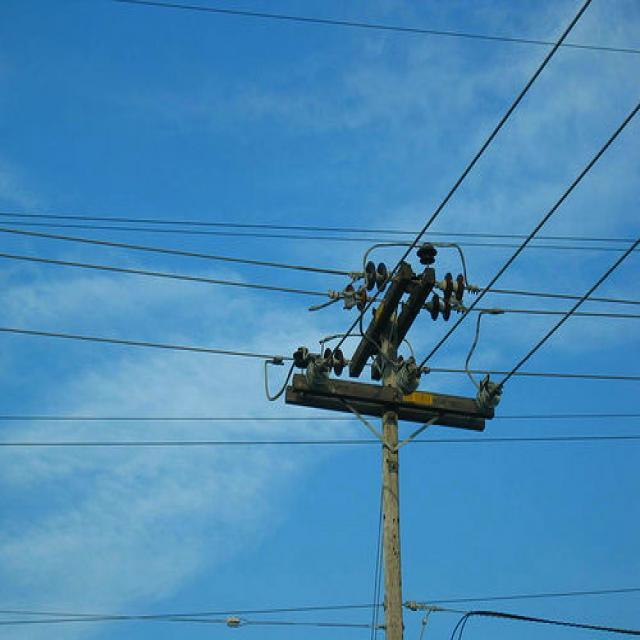crossarm: (283, 353, 503, 432), (349, 244, 465, 379)
pole: (381, 410, 404, 640), (380, 338, 419, 393)
wire: (408, 0, 593, 253), (477, 101, 640, 297), (110, 0, 640, 55), (0, 213, 640, 249), (0, 225, 364, 275), (516, 237, 640, 370), (0, 253, 340, 297), (0, 596, 384, 630), (407, 599, 640, 640), (0, 324, 270, 358), (0, 406, 356, 422), (417, 358, 640, 382), (0, 437, 381, 449), (425, 589, 640, 604), (422, 309, 471, 369), (410, 435, 640, 444)
